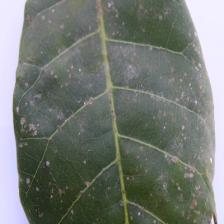red rust: (12, 0, 218, 224)
